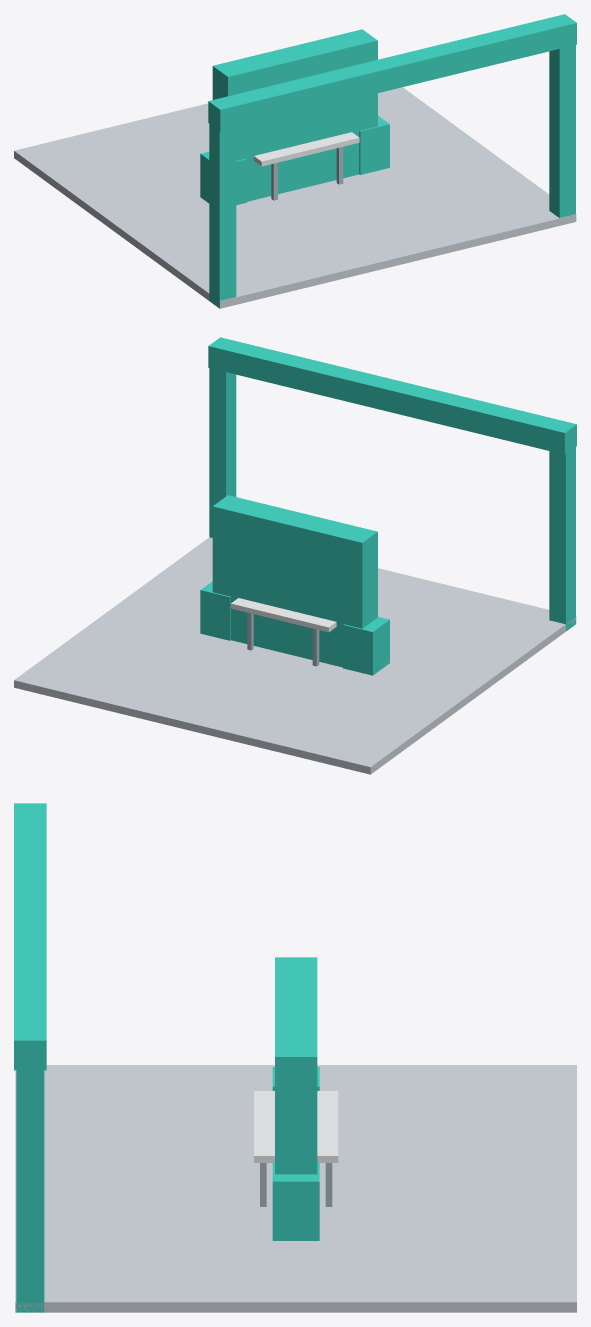
The picture shows the model from 3 angles, top to bottom: view 1: azimuth 30°, elevation 25°; view 2: azimuth 150°, elevation 25°; view 3: azimuth 270°, elevation 25°; orthographic projection. The views are drawn at different scales.
Parts seen in each view (by area): view 1: Exhibition Booth Concept; view 2: Exhibition Booth Concept; view 3: Exhibition Booth Concept.
Part boxes in pixels (x1,y1,x2,y2): Exhibition Booth Concept: (14,14,576,308); Exhibition Booth Concept: (14,337,576,774); Exhibition Booth Concept: (14,803,576,1312).
Size of the model in its own units: 6 by 3.2 by 6.02.
